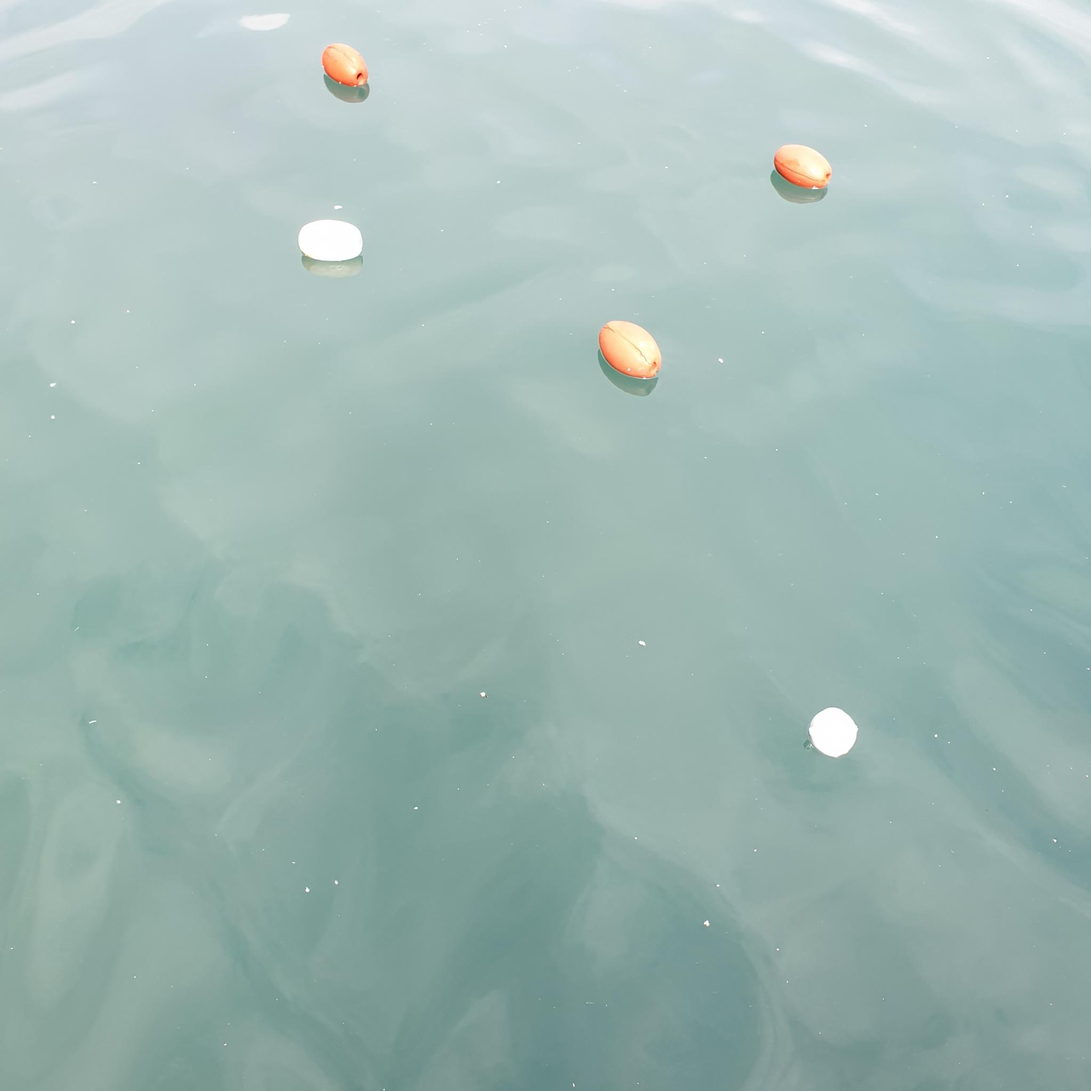sampah_terapung: (599, 321, 663, 380), (299, 219, 364, 262), (775, 144, 833, 190), (810, 707, 859, 759), (323, 44, 369, 87)
